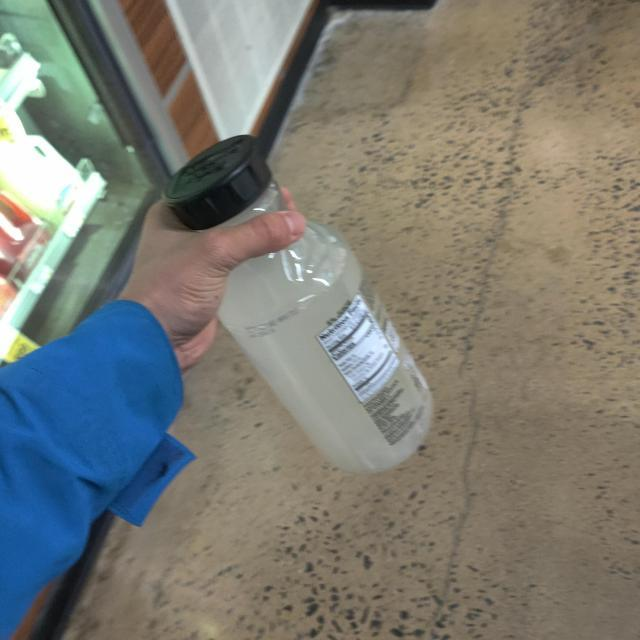Juice: (155, 135, 466, 482)
